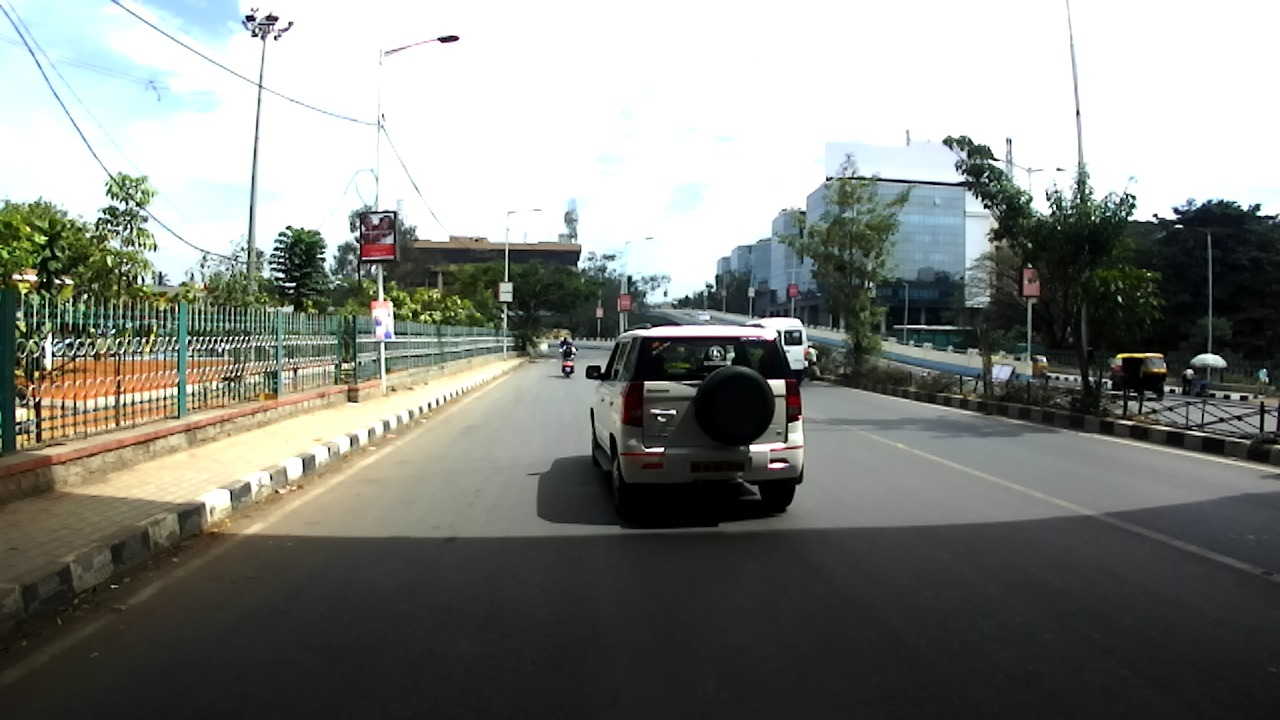autorickshaw: (1112, 352, 1169, 398), (1012, 343, 1051, 380)
bus: (741, 316, 811, 384), (891, 324, 982, 353)
car: (585, 322, 806, 516), (694, 310, 711, 321)
motorcycle: (558, 348, 579, 378), (803, 361, 820, 381)
person: (1253, 365, 1269, 395), (1181, 365, 1196, 396)
rider: (561, 337, 575, 365), (806, 344, 819, 365), (560, 336, 572, 350)
